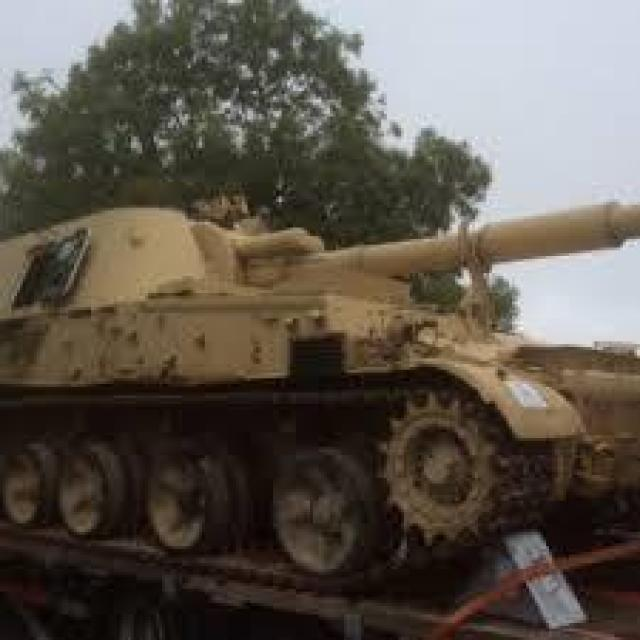MIL_MBT: (3, 201, 583, 596)
